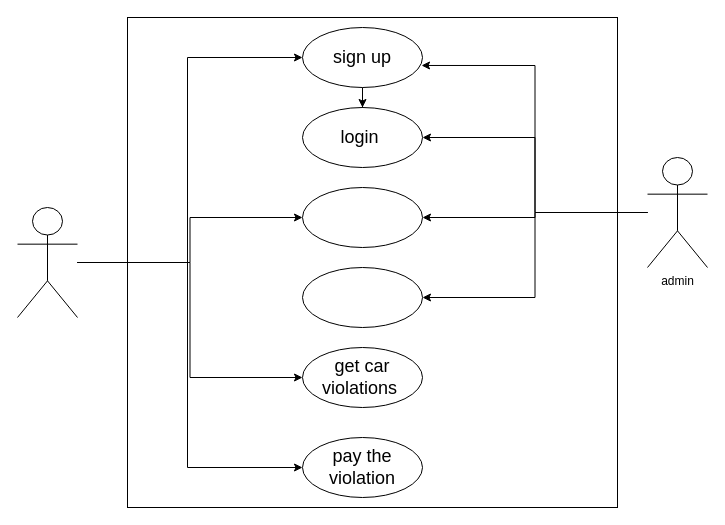
This 725x525 diagram has some shape labels left out. Each missing label, with the centre of its shape:
"add new car" goes at (362,217).
"add new violation" goes at (362,297).
"customer" goes at (47,262).
